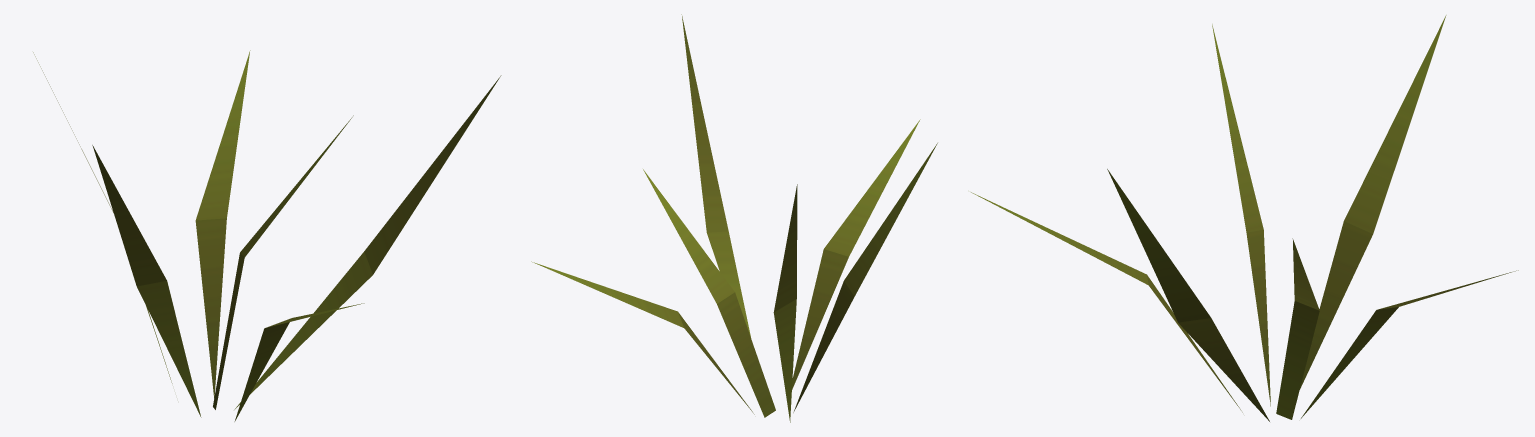
File: Plant_Grass_4.fbx
3 views of the same model, side by side, from view 1: azimuth 30°, elevation 25°; view 2: azimuth 150°, elevation 25°; view 3: azimuth 270°, elevation 25° (orthographic). The views are drawn at different scales.
Visible parts, largest first — view 1: polySurface10615; view 2: polySurface10615; view 3: polySurface10615.
Part boxes in pixels (<box>): polySurface10615: <box>33,50,501,421</box>; polySurface10615: <box>531,14,937,422</box>; polySurface10615: <box>971,15,1518,421</box>.
Size of the model in its own units: 59.63 by 58.23 by 83.34.
